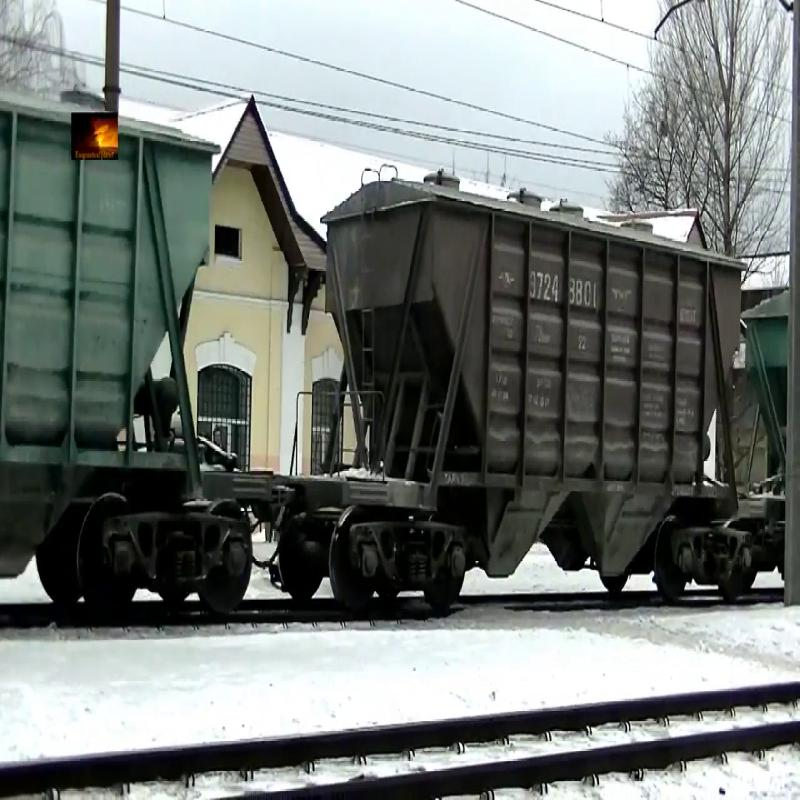train: (323, 193, 745, 613), (1, 137, 252, 621)
